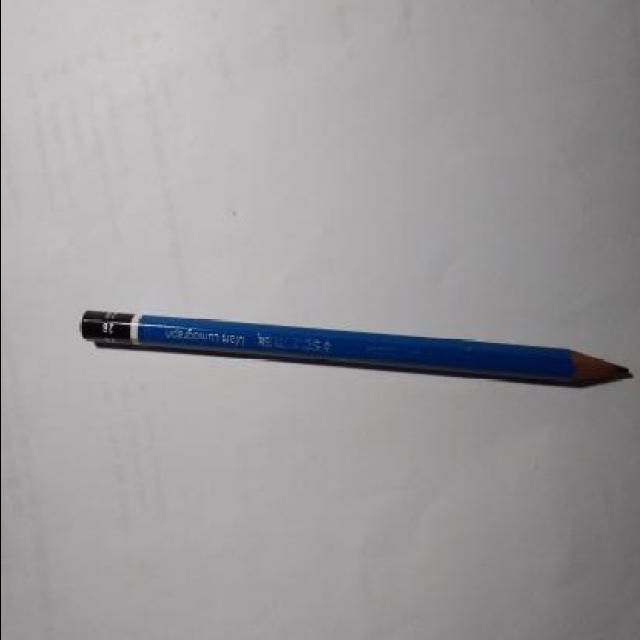Pencil: (518, 337, 630, 403)
